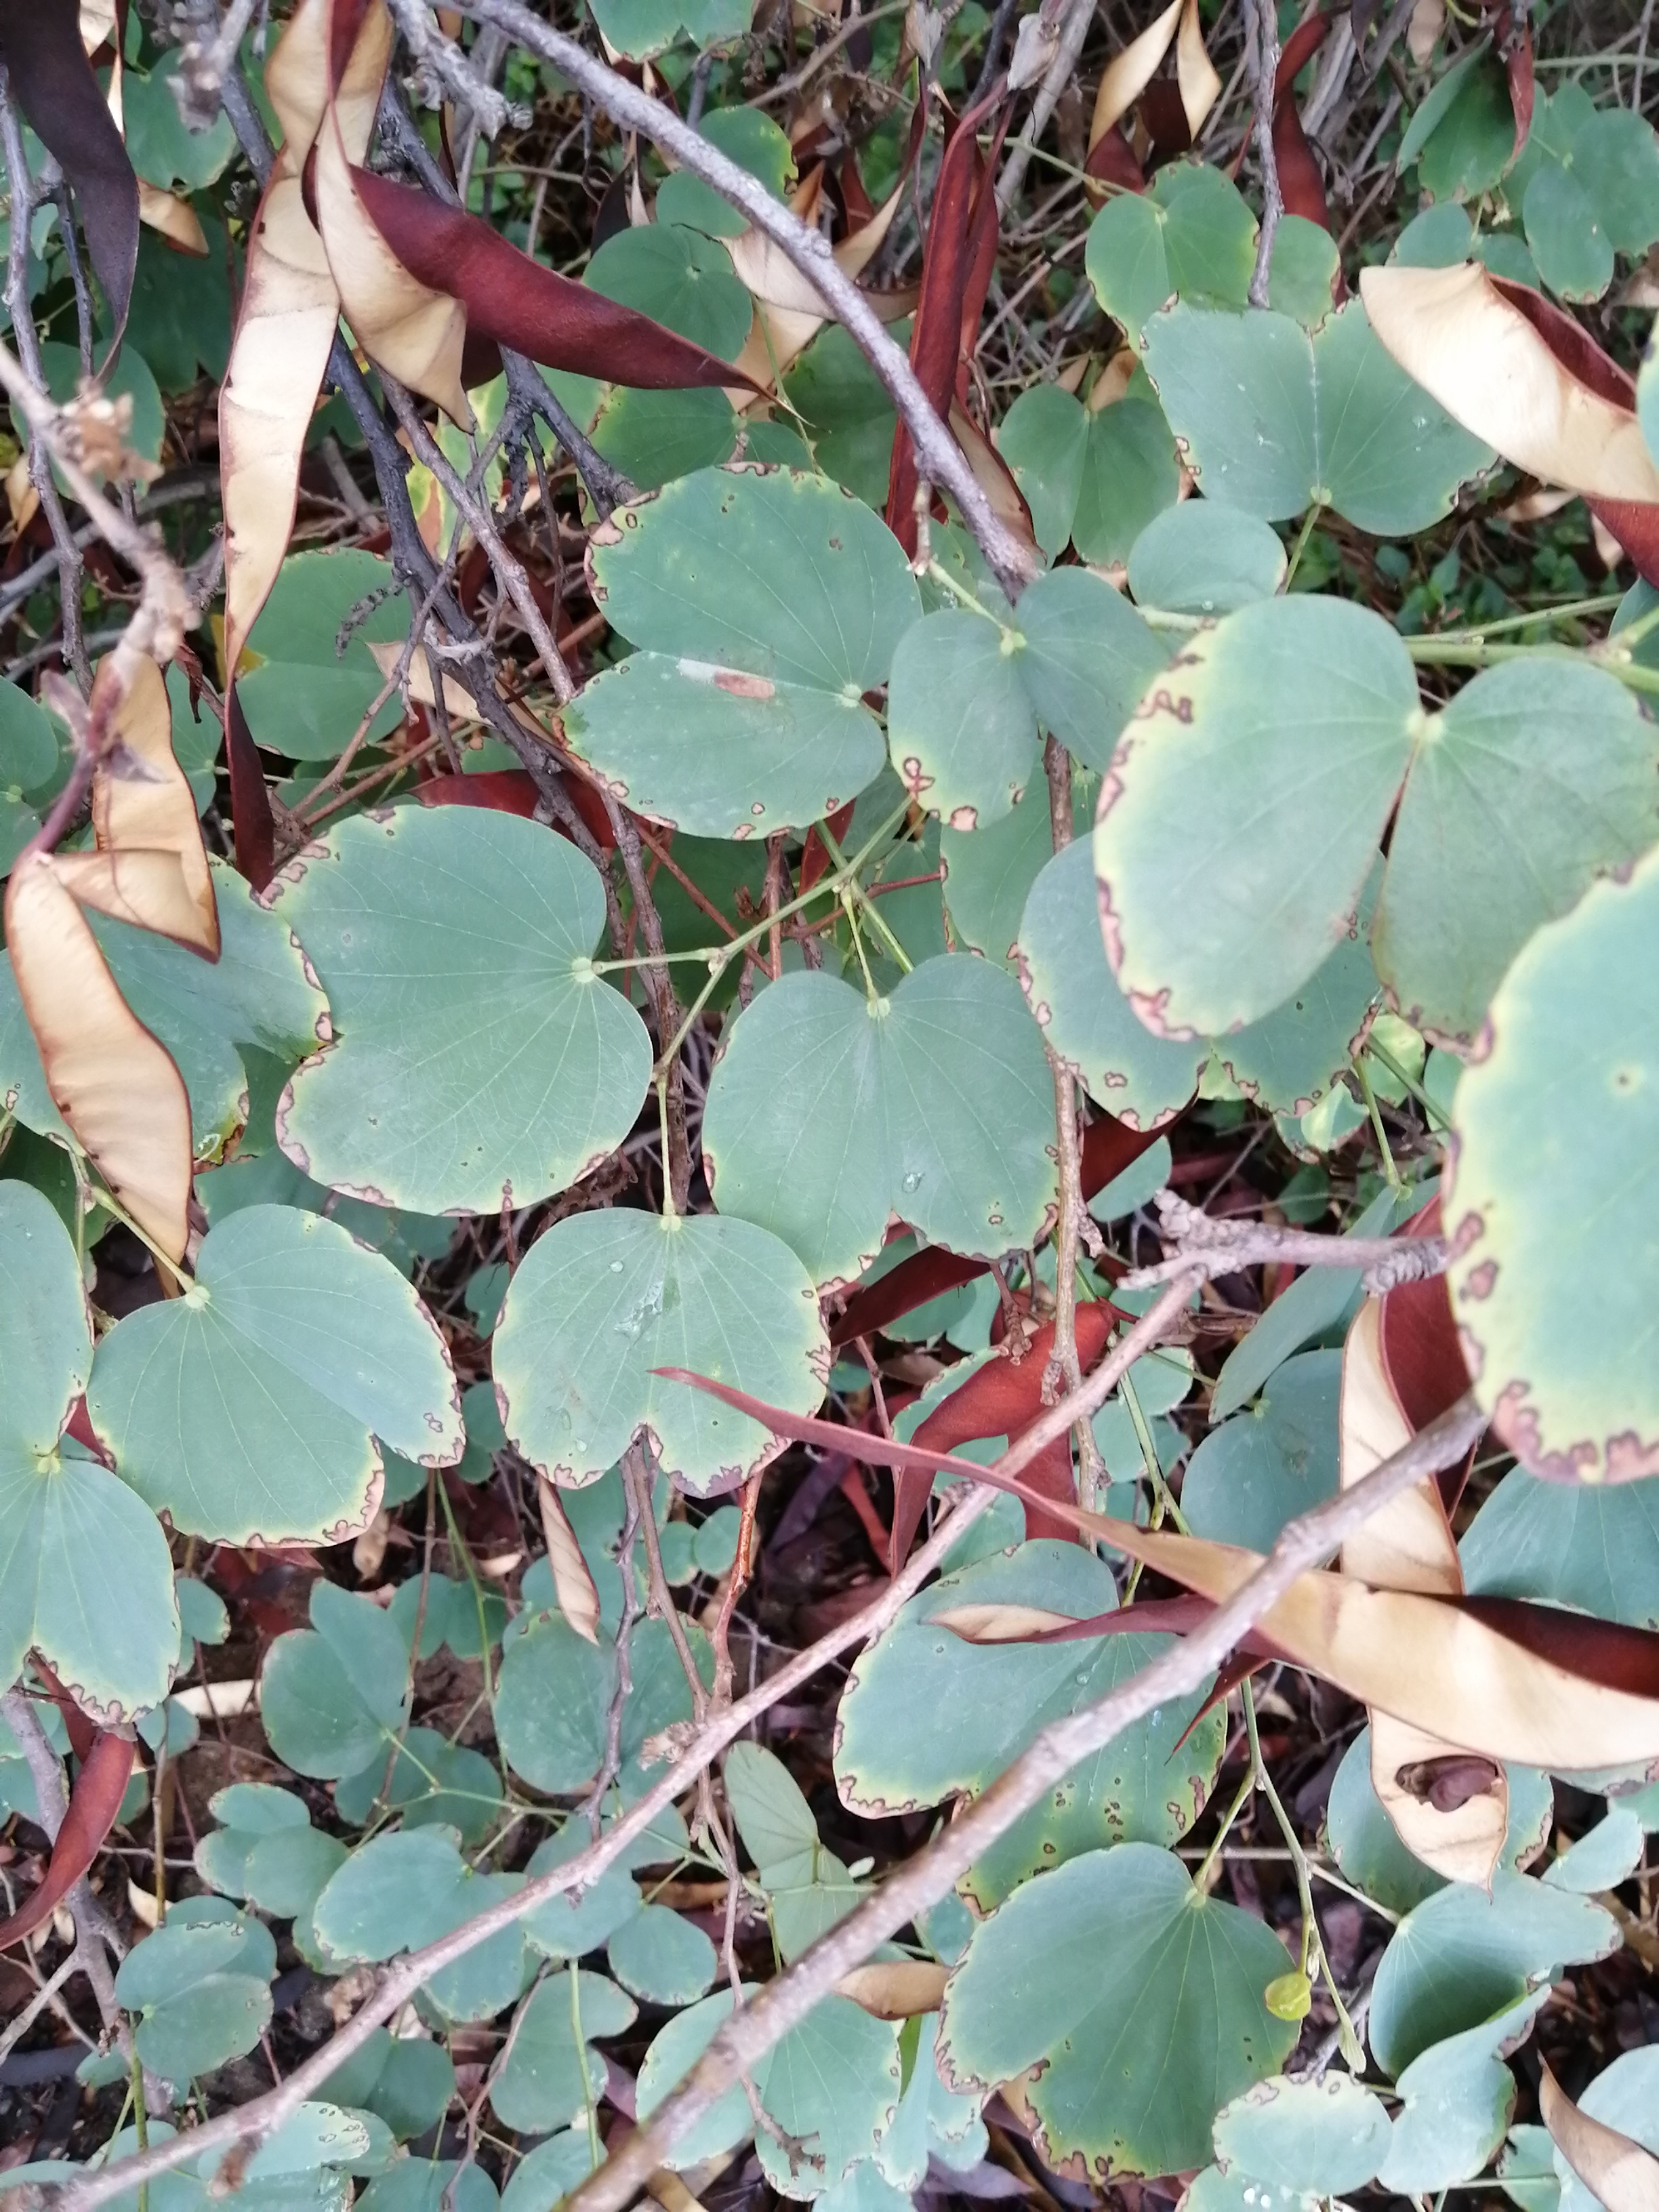nothealthy: (1093, 578, 1643, 1069), (253, 799, 647, 1231), (61, 1204, 476, 1559), (544, 465, 927, 846), (709, 965, 1080, 1298), (490, 1202, 833, 1505), (887, 583, 1187, 836)
